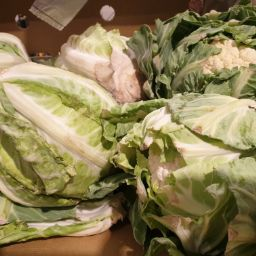Cauliflower: (1, 28, 137, 253), (109, 79, 256, 256), (94, 16, 256, 130)
